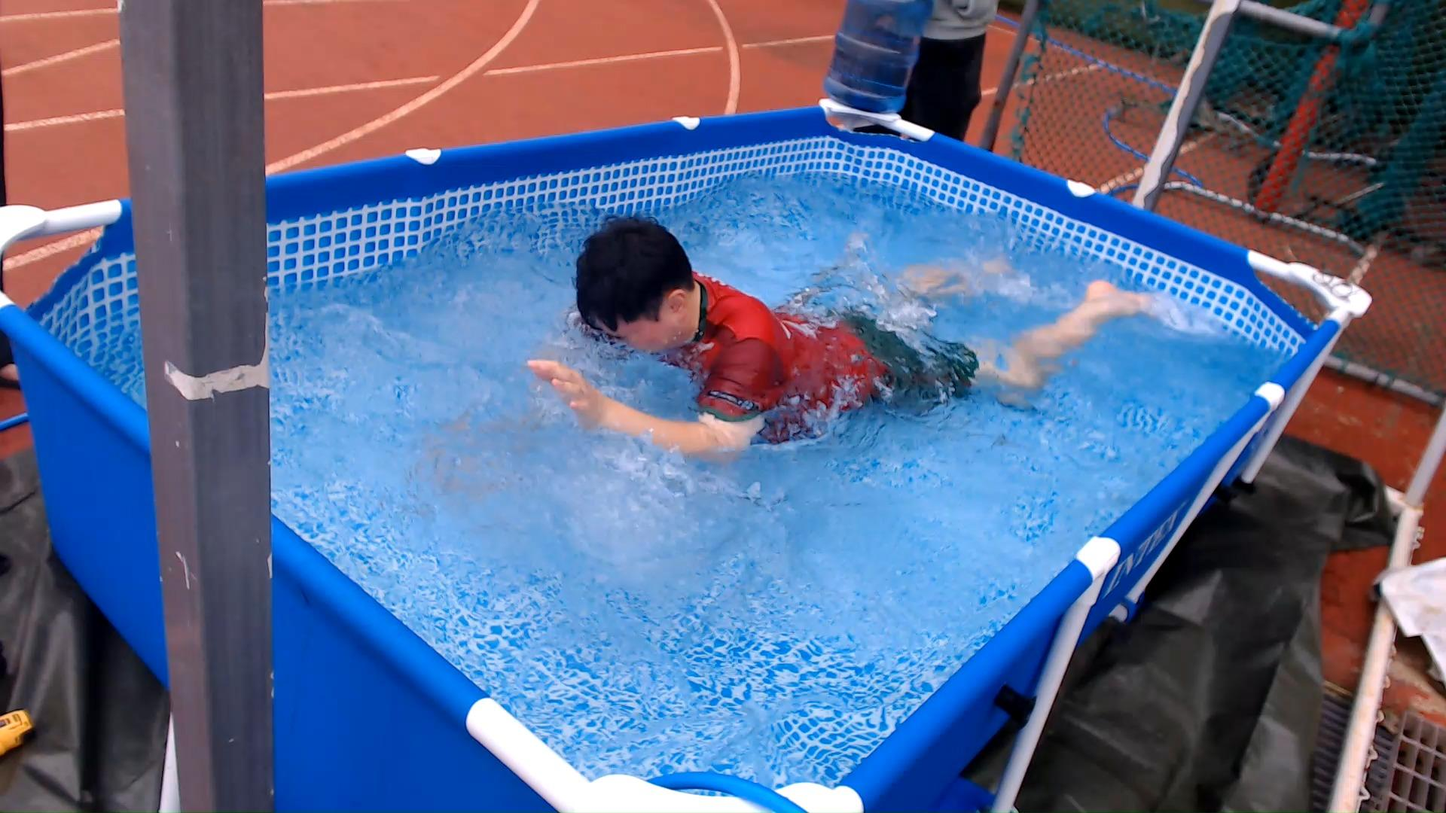Drowning: (501, 198, 1202, 479)
